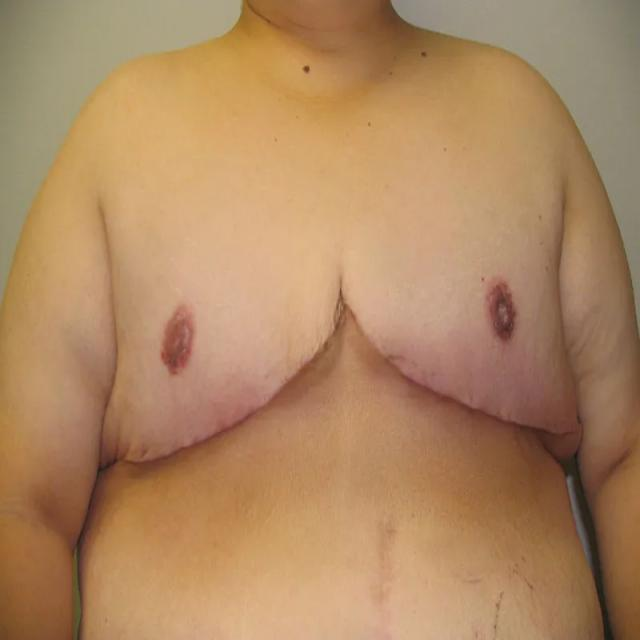Seno herido: (91, 234, 342, 506), (345, 234, 587, 478)
